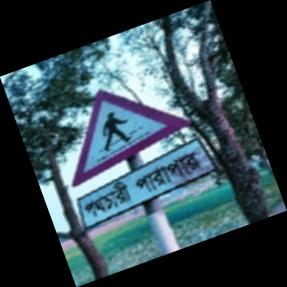Pedestrian-crossing: (72, 80, 222, 228)
